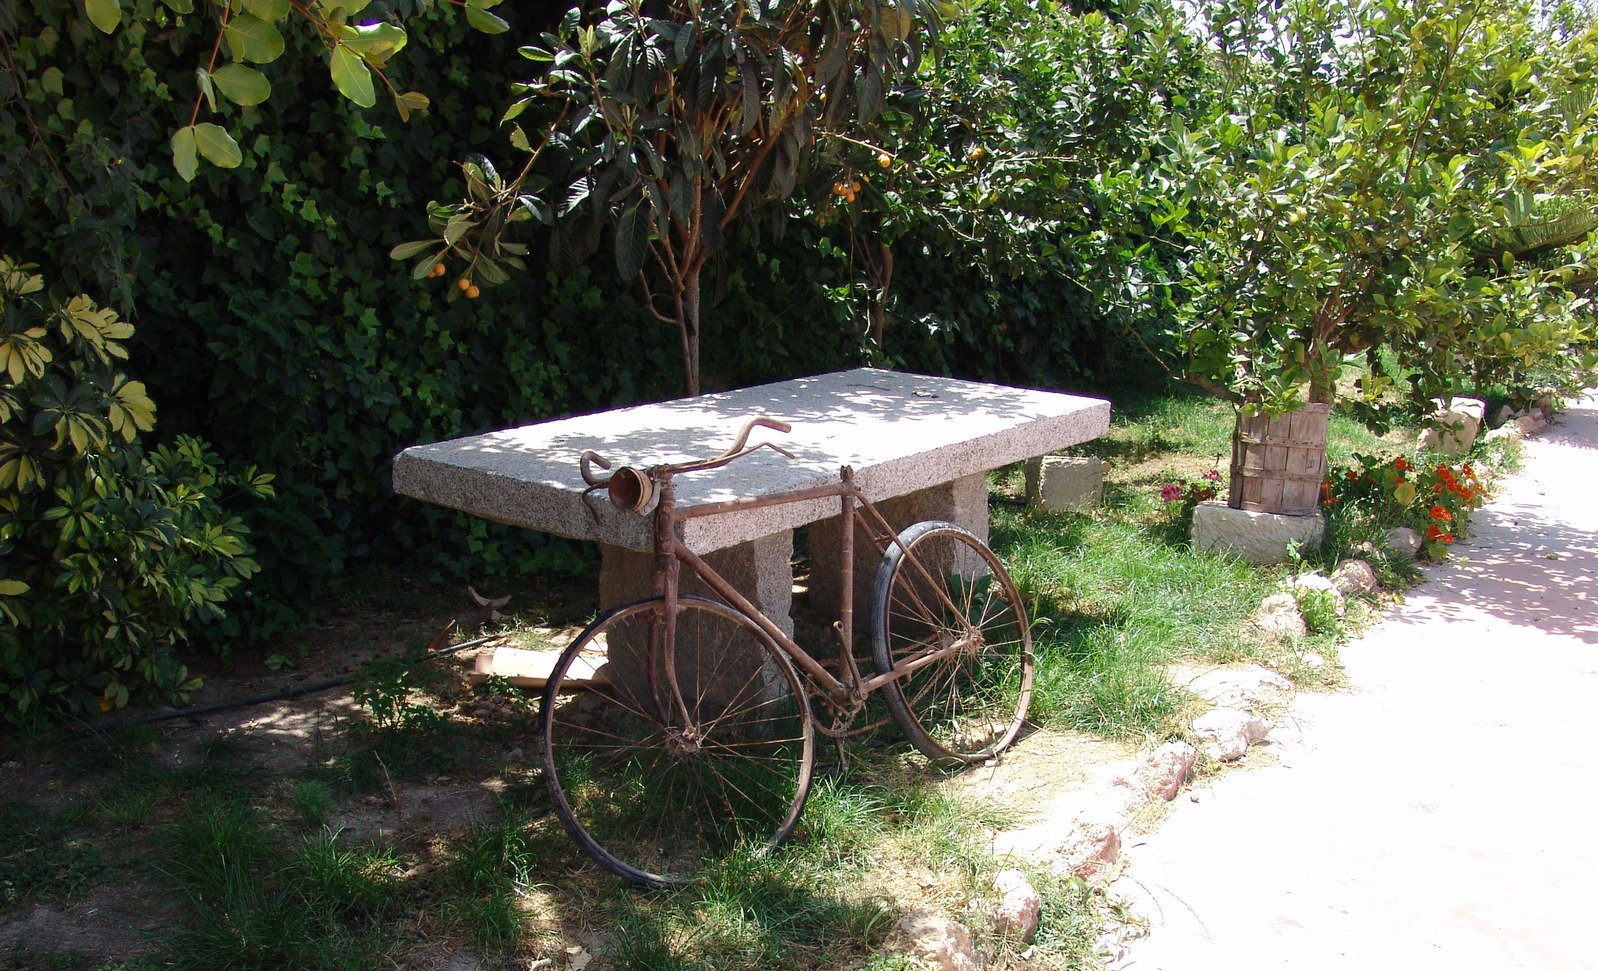Bicycle: (324, 330, 1363, 948)
